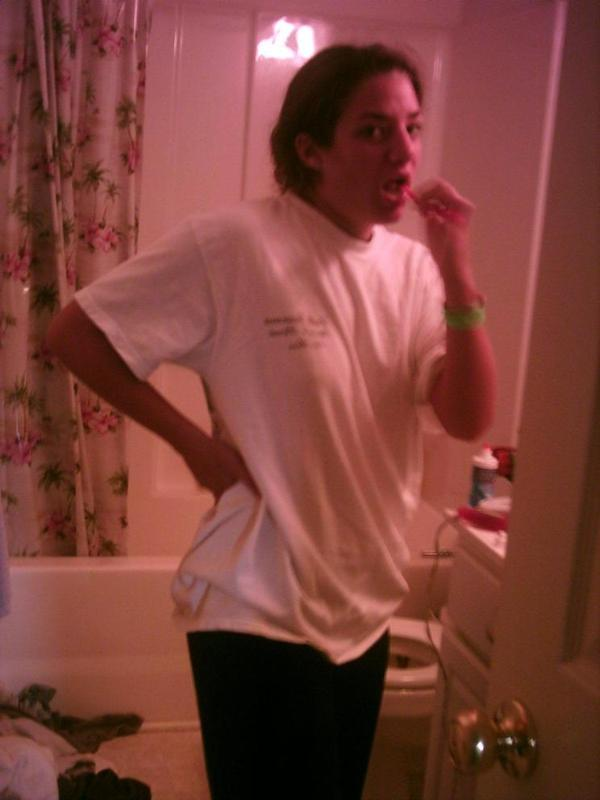person: (43, 39, 498, 800)
